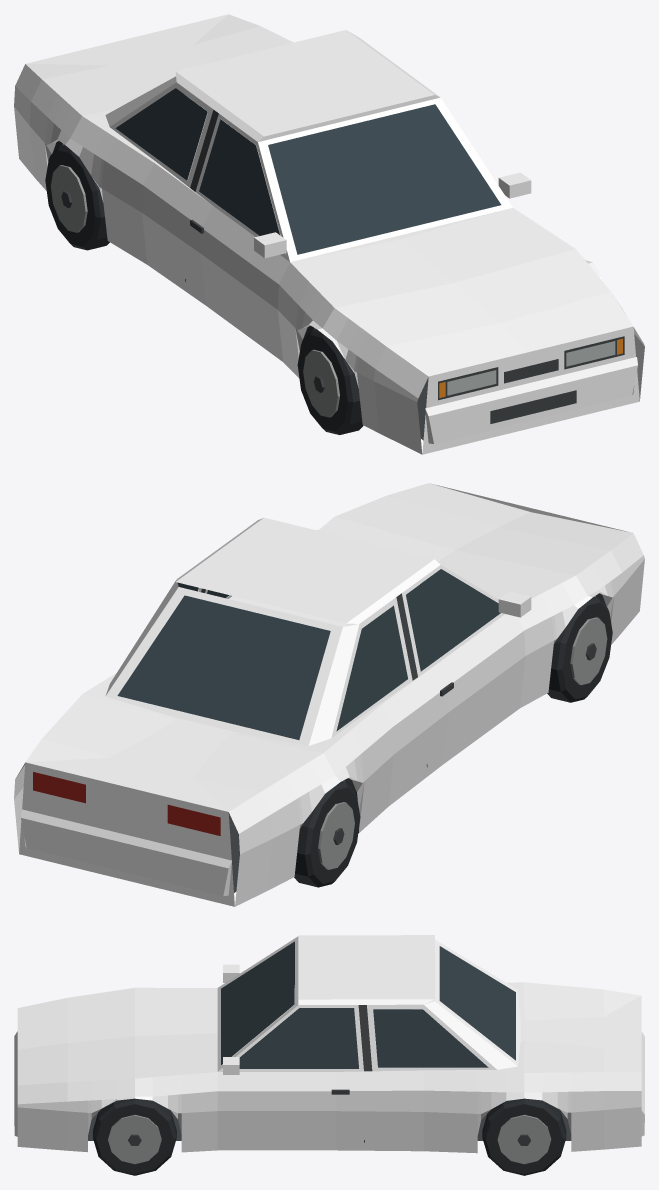
File: ottavo_faro.glb
The picture shows the model from 3 angles, top to bottom: view 1: azimuth 30°, elevation 25°; view 2: azimuth 150°, elevation 25°; view 3: azimuth 270°, elevation 25°; orthographic projection. The views are drawn at different scales.
Visible parts, largest first — view 1: ottavo_faro; view 2: ottavo_faro; view 3: ottavo_faro.
Part boxes in pixels (x1,y1,x2,y2): ottavo_faro: [14, 14, 644, 454]; ottavo_faro: [14, 483, 644, 906]; ottavo_faro: [14, 935, 644, 1175].
Size of the model in its own units: 1.77 by 1.27 by 4.55.
8 materials, 1 textured.
